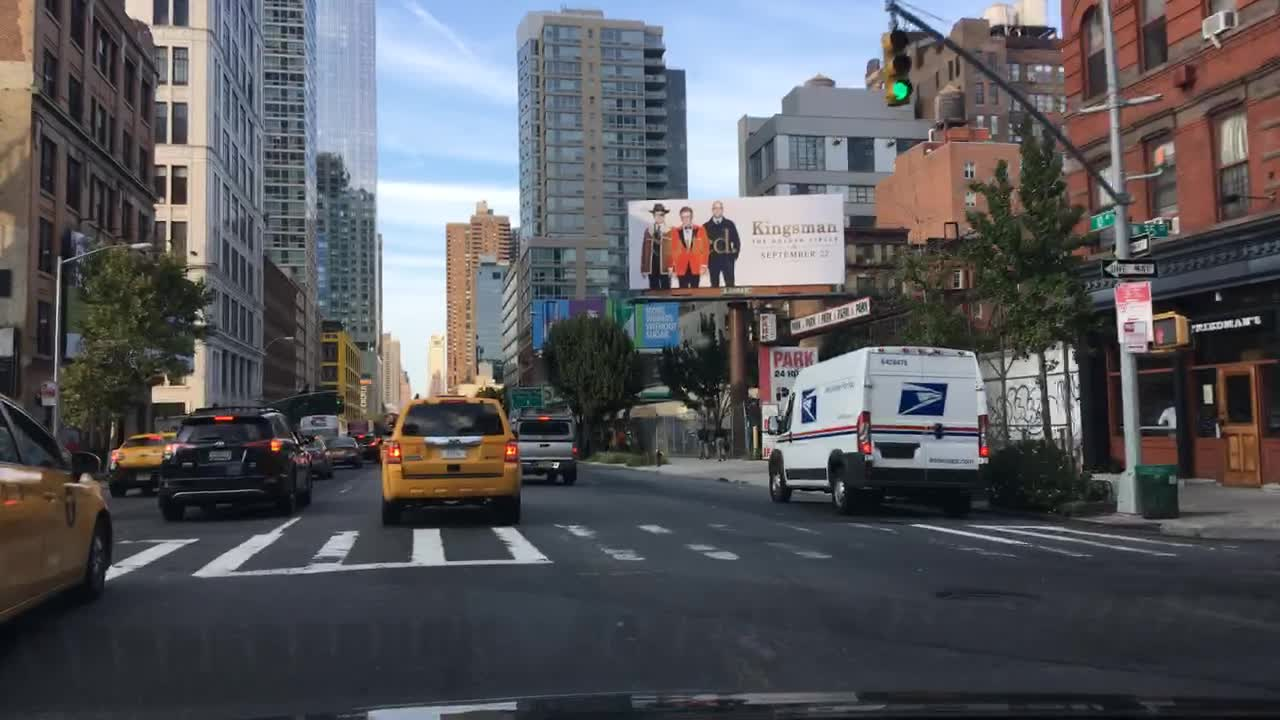bus: (303, 410, 347, 439)
car: (767, 343, 992, 517), (0, 393, 114, 642), (376, 391, 523, 524), (157, 405, 312, 520), (511, 411, 577, 484), (109, 432, 179, 497), (326, 436, 360, 471), (303, 441, 333, 472), (355, 432, 381, 459)
person: (695, 423, 711, 459), (715, 420, 728, 459), (618, 428, 634, 451)
traffic light: (882, 32, 912, 104), (1148, 314, 1188, 350), (333, 393, 347, 411)
traffic sign: (1118, 282, 1154, 353), (1102, 260, 1159, 280), (511, 385, 545, 407), (1089, 209, 1118, 231), (1127, 224, 1168, 238), (1129, 236, 1148, 259), (43, 377, 55, 407)
